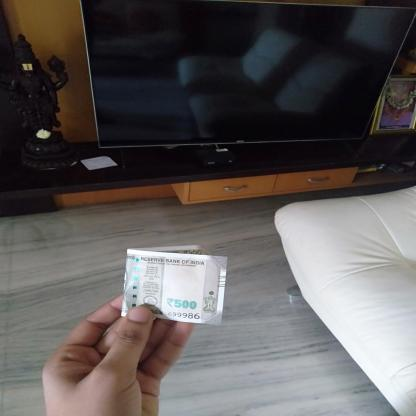New500Front: (122, 252, 222, 322)
